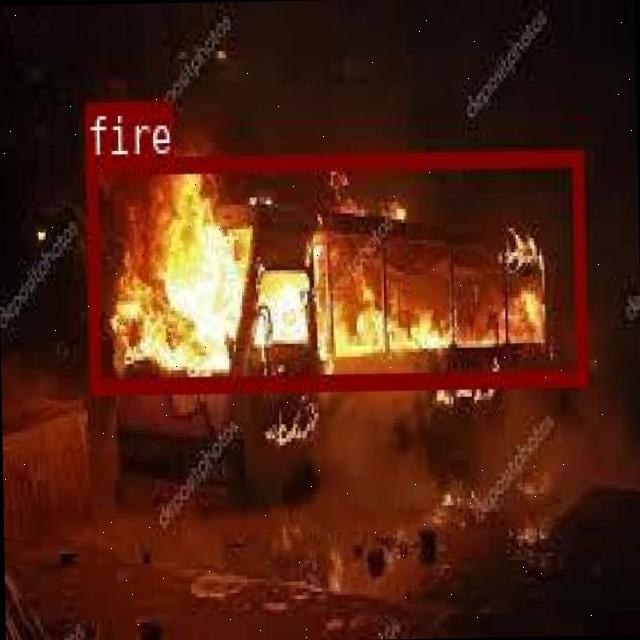fire: (84, 148, 583, 390)
